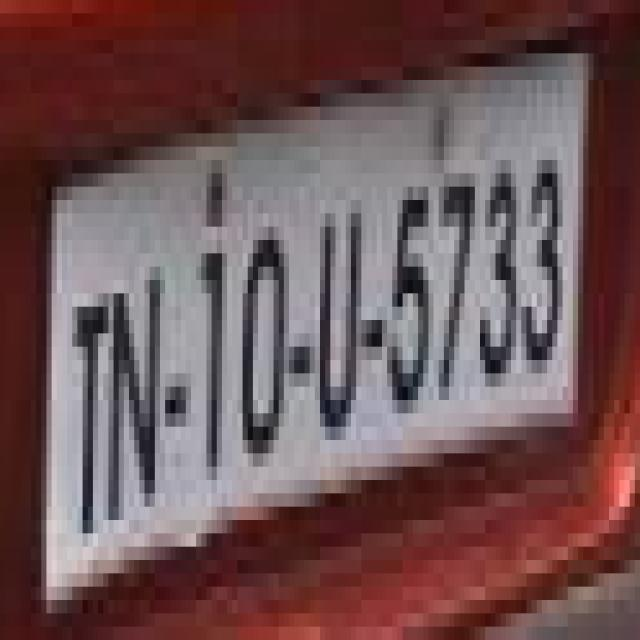license_plate: (0, 106, 604, 626)
